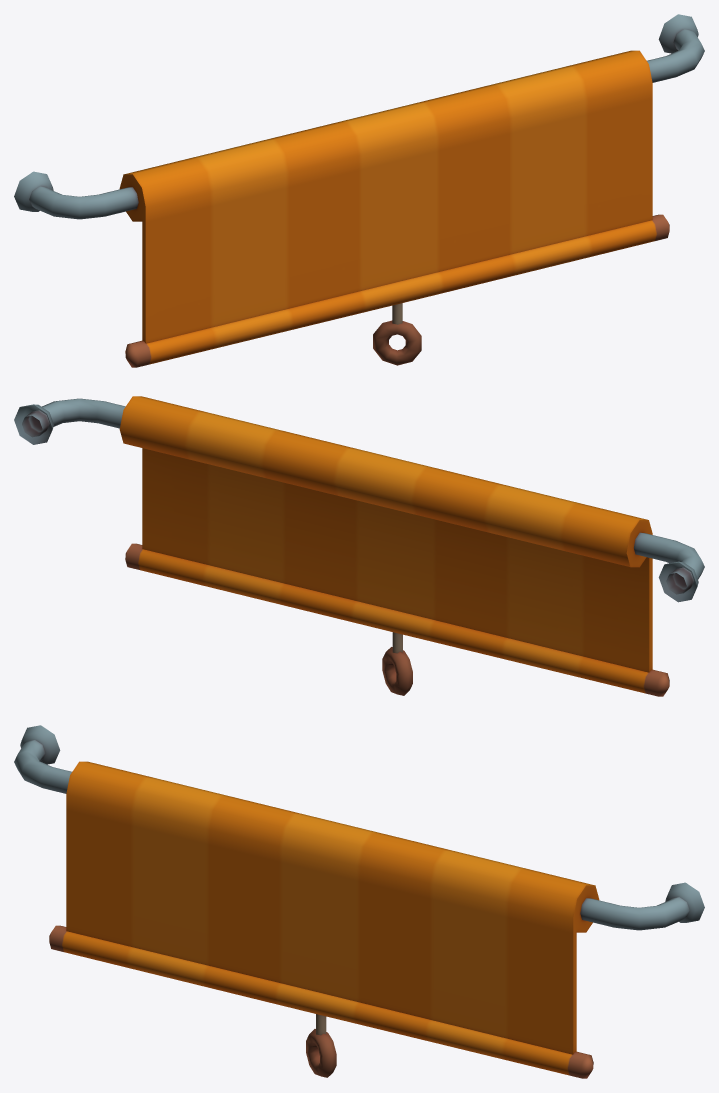
File: curtain_01.fbx
3 views of the same model, one above another, from view 1: azimuth 30°, elevation 25°; view 2: azimuth 150°, elevation 25°; view 3: azimuth 330°, elevation 25° (orthographic).
Visible parts, largest first — view 1: curtain_01_ready; view 2: curtain_01_ready; view 3: curtain_01_ready.
Part boxes in pixels (x1,y1,x2,y2): curtain_01_ready: [14, 14, 704, 367]; curtain_01_ready: [14, 396, 704, 696]; curtain_01_ready: [14, 725, 704, 1078].
Bounding box in the file's own units: 186 × 63.58 × 24.5.
